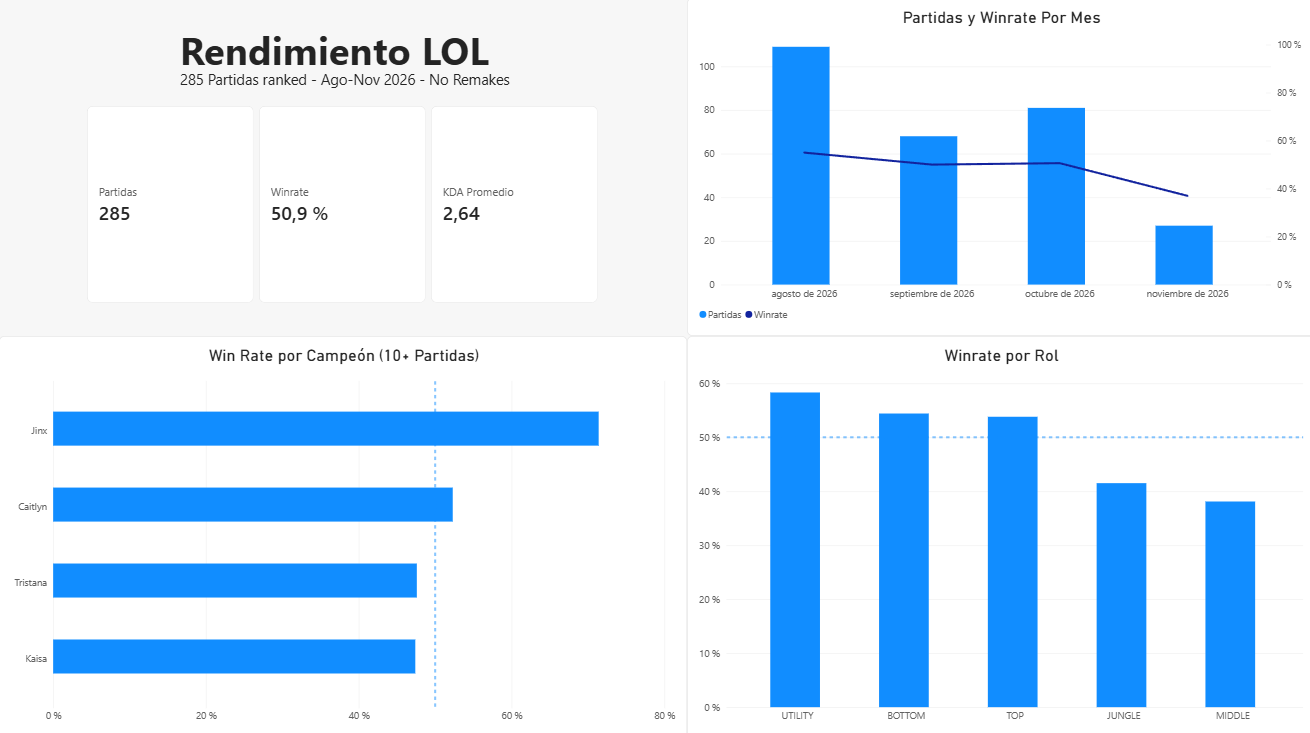

The dashboard page shown, as its layout file describes it:
{"tool":"powerbi","page":{"name":"Página 1","canvas":[1920,1080],"ordinal":0},"visuals":[{"type":"cardVisual","fields":{"Data":["analytics fct_my_matches.Partidas","analytics fct_my_matches.Winrate","Avg(analytics fct_my_matches.kda)"]},"box":[128.4,157.6,745.5,287.4],"z":0},{"type":"barChart","title":"Win Rate por Campeón (10+ Partidas)","fields":{"Category":["analytics mart_champion_stats.champion_name"],"Y":["Sum(analytics mart_champion_stats.winrate)"]},"box":[0,493.1,1003.8,586.5],"z":1000},{"type":"columnChart","title":"Winrate por Rol","fields":{"Category":["analytics mart_role_stats.team_position"],"Y":["Sum(analytics mart_role_stats.winrate)"]},"box":[1003.8,493.1,916.2,586.5],"z":2000},{"type":"lineClusteredColumnComboChart","title":"Partidas y Winrate Por Mes","fields":{"Category":["analytics mart_monthly_stats.game_month"],"Y":["Sum(analytics mart_monthly_stats.games)"],"Y2":["Sum(analytics mart_monthly_stats.winrate)"]},"box":[1003.8,0,916.2,493.1],"z":3000},{"type":"textbox","box":[264.1,37.9,475.6,93.4],"z":4000},{"type":"textbox","box":[264.1,103.6,541.3,54],"z":4001}]}

Visuals, with their boxes in screenshot pixels (x1, y1, x2, y2), scaled from the page's 1920x1080 canvas onto the 1310x733 screenshot:
cardVisual - analytics fct_my_matches.Partidas x analytics fct_my_matches.Winrate: (88, 107, 596, 302)
"Win Rate por Campeón (10+ Partidas)" barChart: (0, 335, 685, 732)
"Winrate por Rol" columnChart: (685, 335, 1309, 732)
"Partidas y Winrate Por Mes" lineClusteredColumnComboChart: (685, 0, 1309, 335)
textbox: (180, 26, 505, 89)
textbox: (180, 70, 550, 107)
